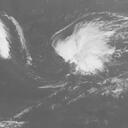cyclone: (56, 23, 109, 74)
